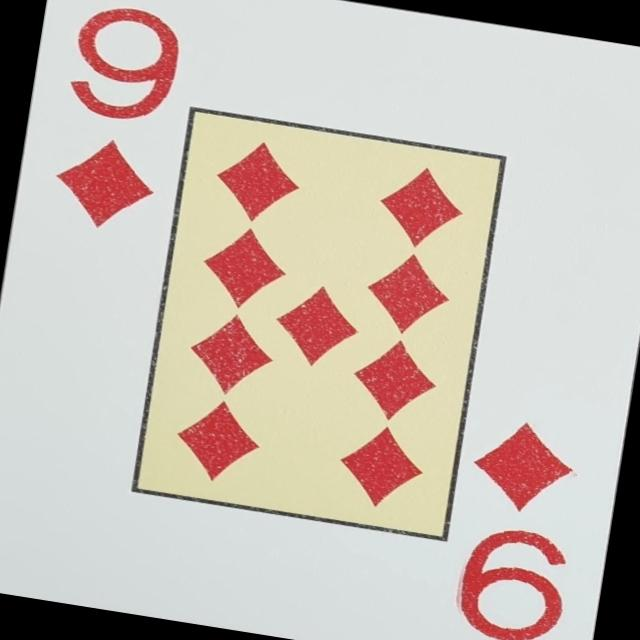9d: (40, 0, 189, 241), (442, 409, 594, 640)
